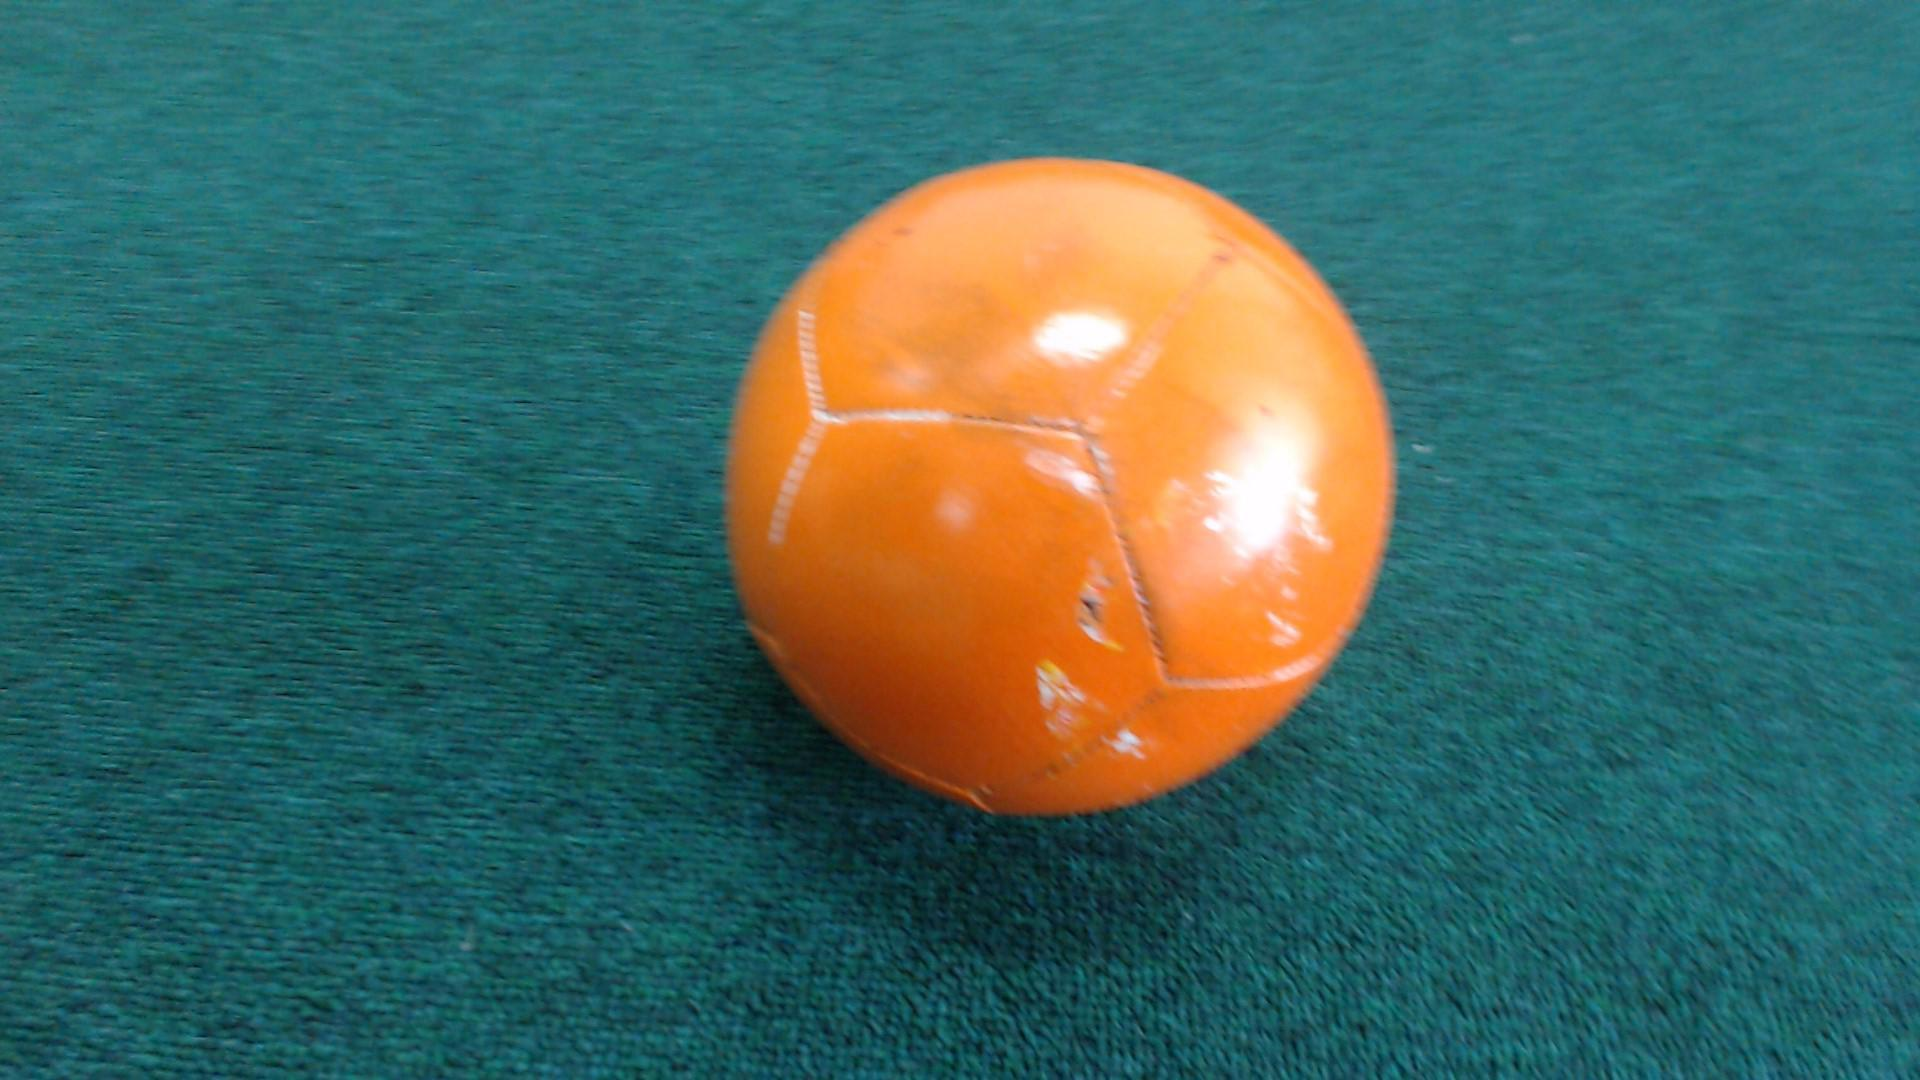bola: (647, 129, 1445, 876)
